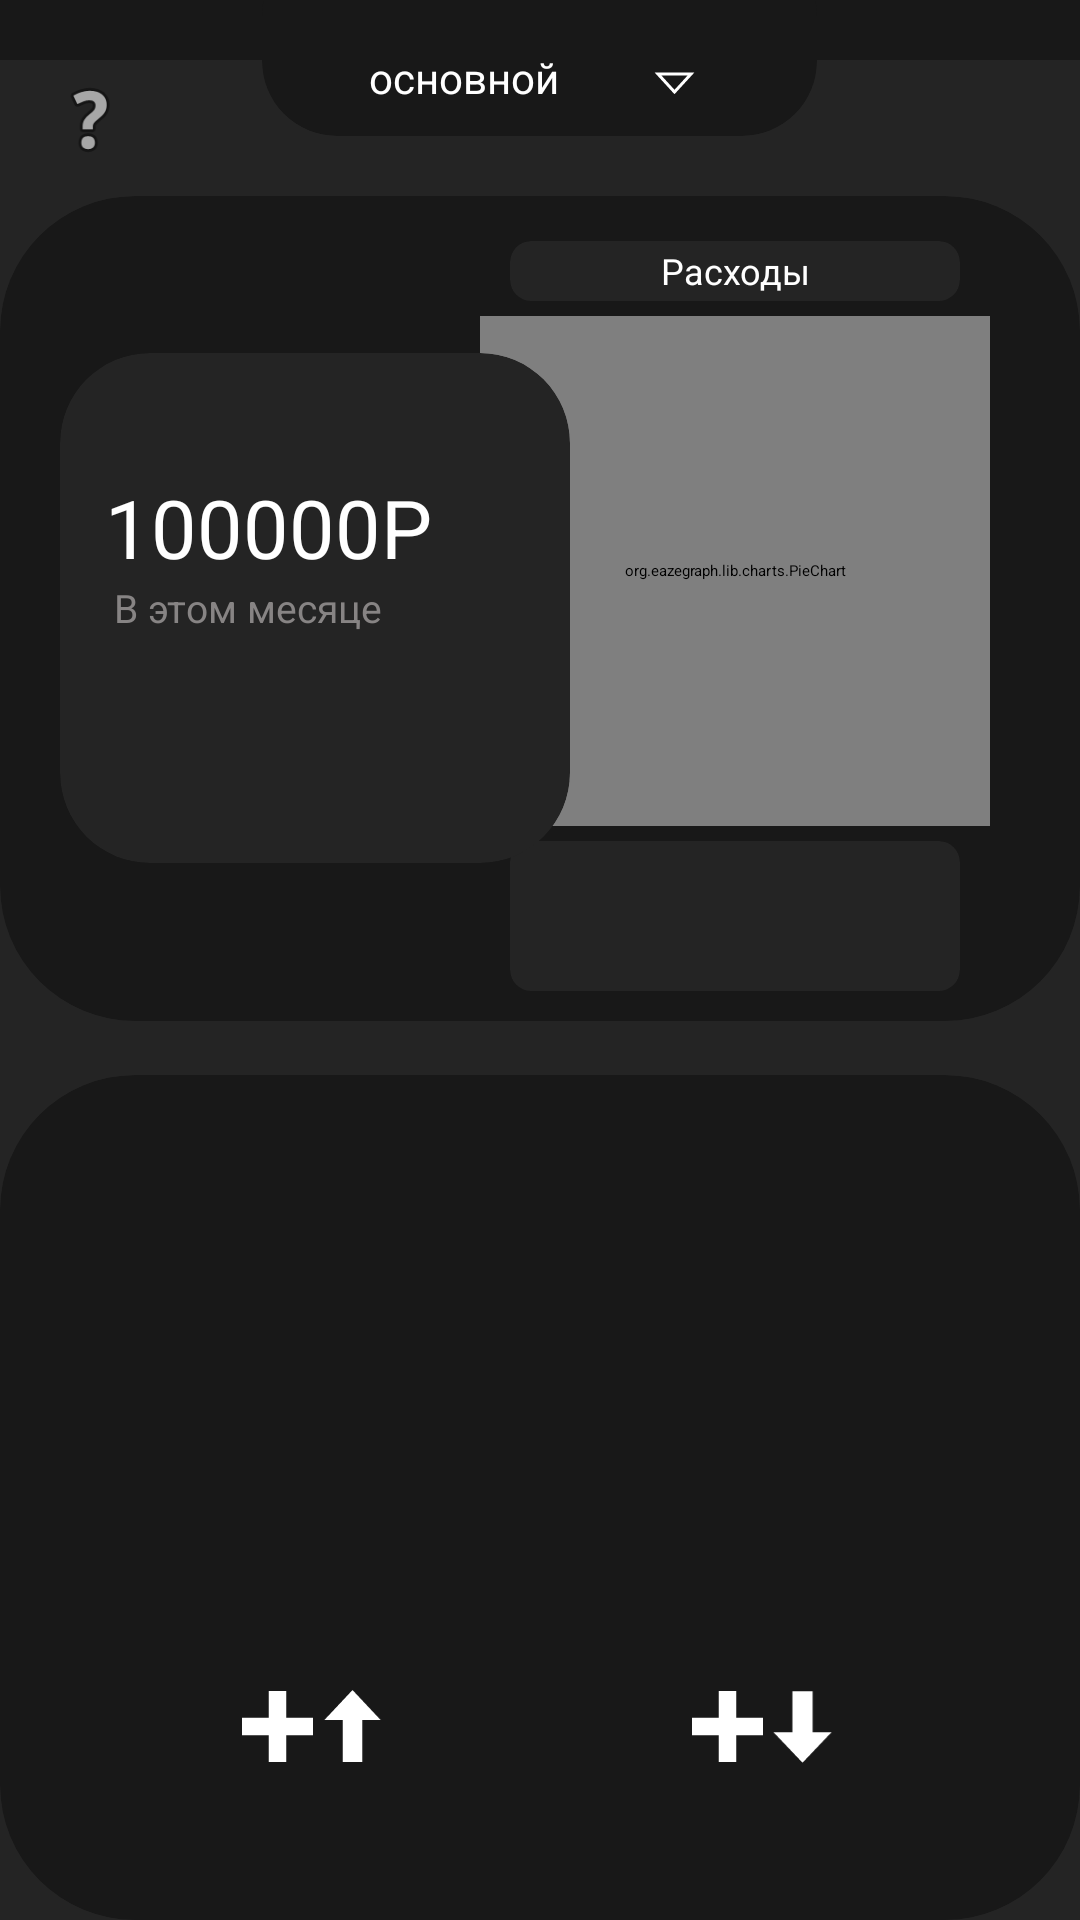

Point at icon controls on the screen. Image size 1080 × 1920, points as [x,y].
arrow down: [802,1727]
arrow up: [352,1726]
help: [90,120]
plus: [277,1726], [727,1726]
triangle: [674,83]
